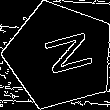N_W: (29, 29, 91, 82)
